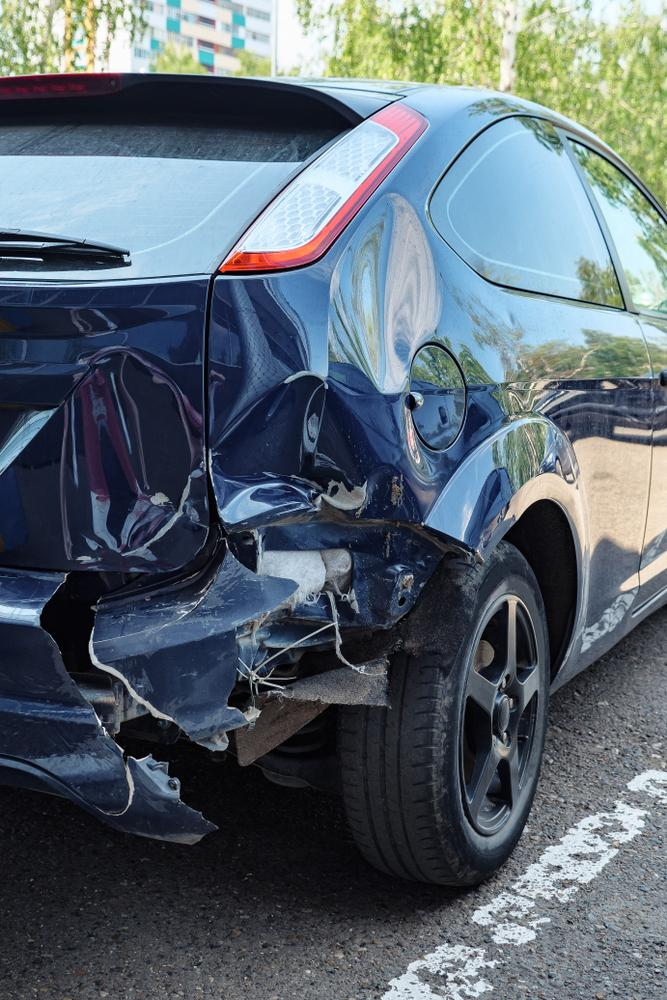crack: (38, 568, 227, 822)
dent: (57, 347, 213, 562), (210, 377, 426, 530), (328, 192, 439, 396)
